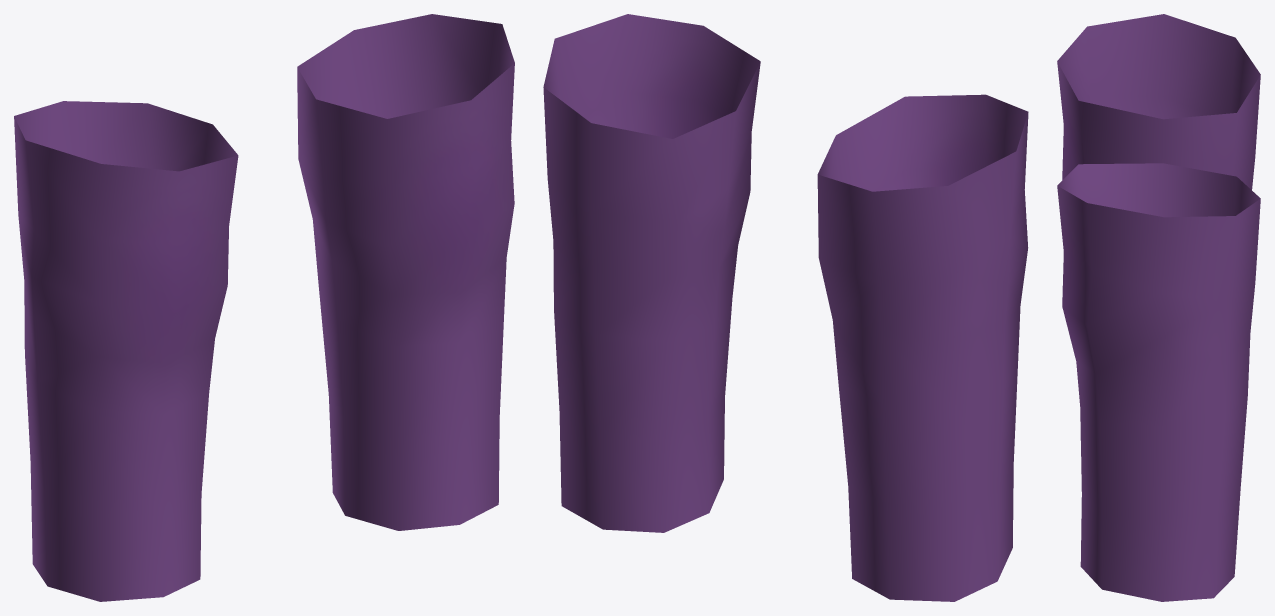
The model's file is Body_Purple_LegB_2.fbx.
3 views of the same model, side by side, from view 1: azimuth 30°, elevation 25°; view 2: azimuth 150°, elevation 25°; view 3: azimuth 270°, elevation 25° (orthographic). The views are drawn at different scales.
Visible parts, largest first — view 1: Body_Purple_LegB_2; view 2: Body_Purple_LegB_2; view 3: Body_Purple_LegB_2.
Boxes of the visible parts, x1,y1,x2,y2 form: Body_Purple_LegB_2: (14,14,514,601); Body_Purple_LegB_2: (543,14,1028,601); Body_Purple_LegB_2: (1057,14,1260,601).
Bounding box in the file's own units: 32.69 × 29.91 × 13.84.
